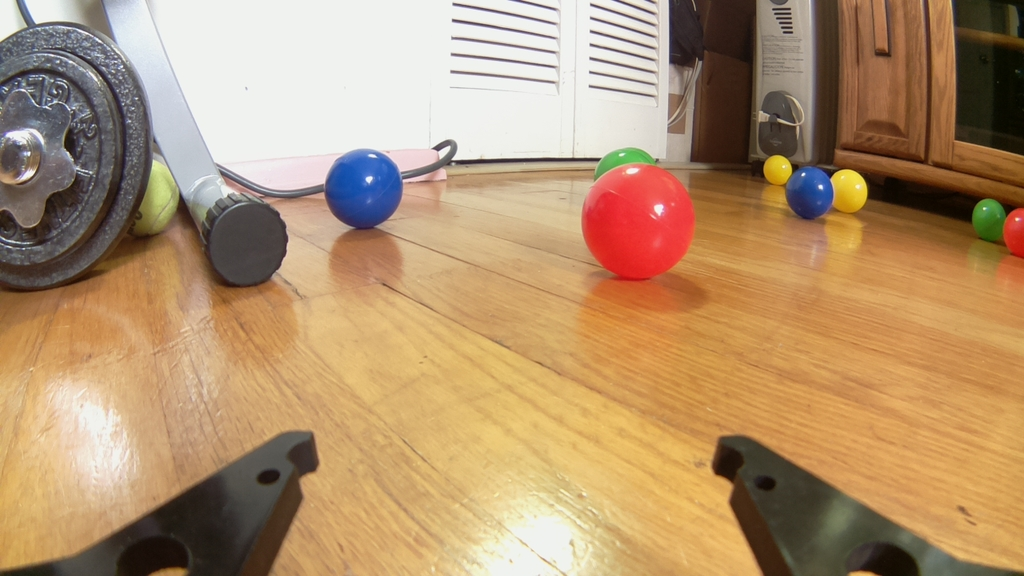ball: (1000, 205, 1024, 257)
